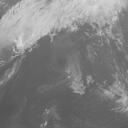cyclone: (27, 38, 99, 98)
